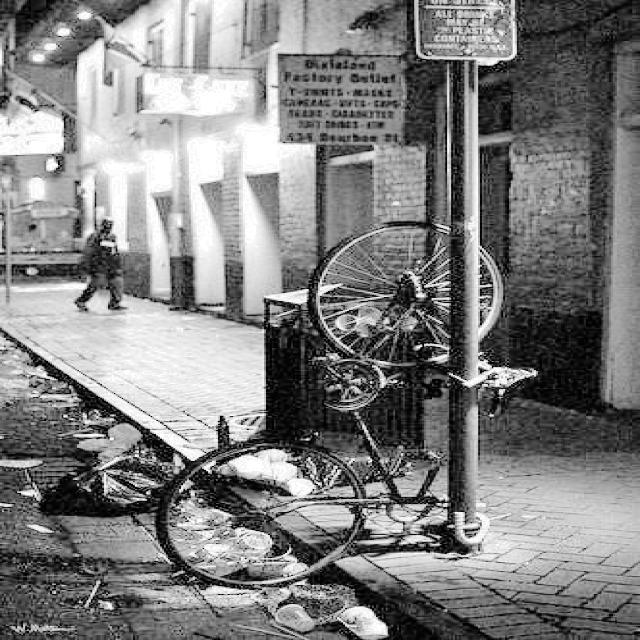Bicycle: (275, 198, 527, 558)
